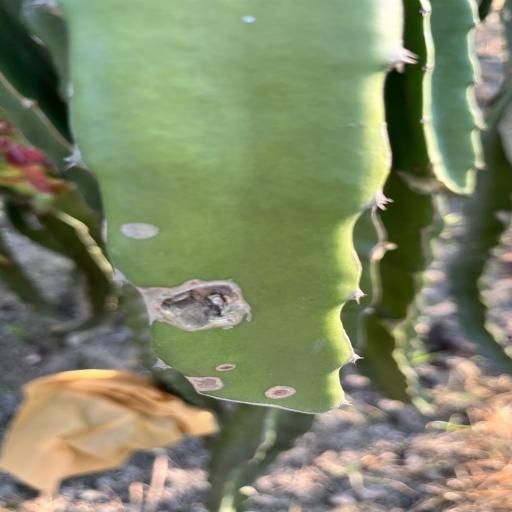stemcanker: (121, 209, 207, 259), (116, 218, 160, 247), (230, 12, 268, 37), (256, 386, 304, 404), (206, 358, 248, 376), (184, 374, 226, 392)
